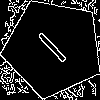I: (28, 23, 70, 65)
